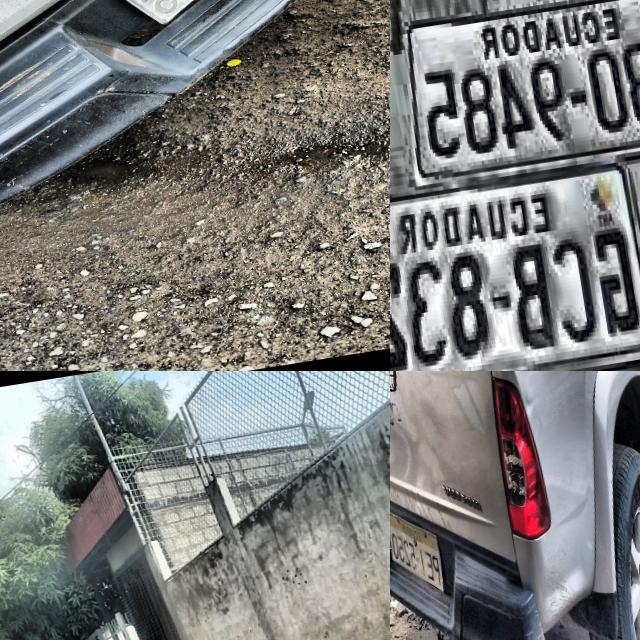license_plate: (390, 155, 640, 371), (390, 0, 640, 189), (390, 508, 447, 597)
